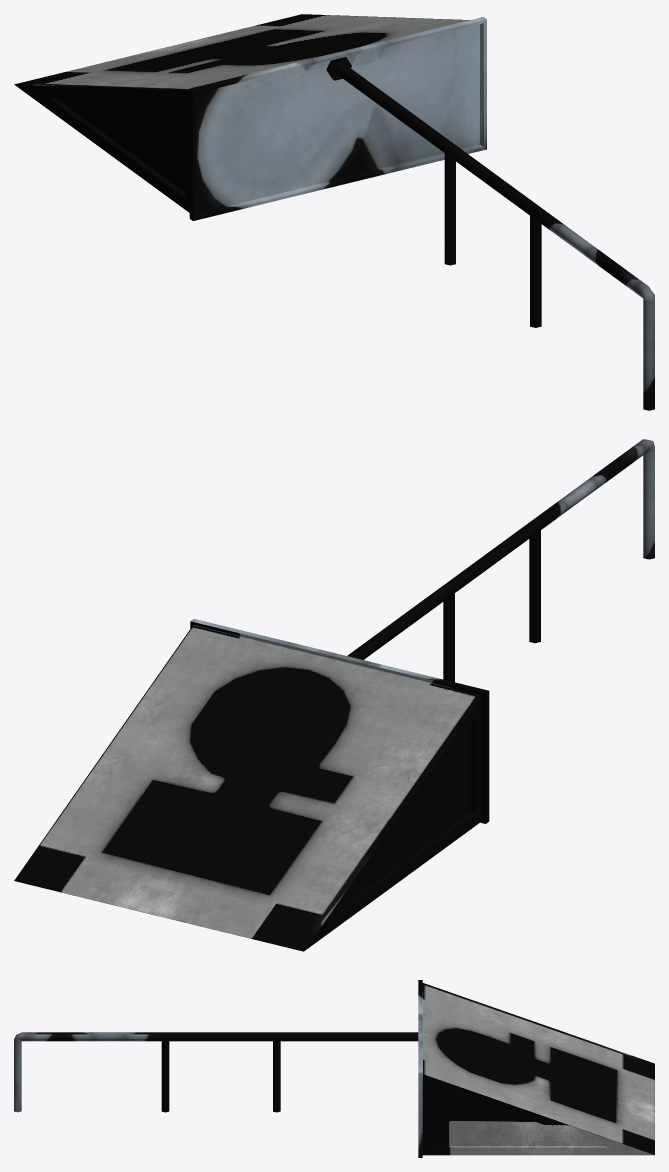
Rendered from Ramp02.fbx.
The picture shows the model from 3 angles, top to bottom: view 1: azimuth 30°, elevation 25°; view 2: azimuth 150°, elevation 25°; view 3: azimuth 270°, elevation 25°; orthographic projection. The views are drawn at different scales.
Parts seen in each view (by area): view 1: Ramp02; view 2: Ramp02; view 3: Ramp02.
Boxes of the visible parts, box(x1,y1,x2,y2) form: Ramp02: box(14, 14, 654, 410); Ramp02: box(14, 439, 654, 951); Ramp02: box(14, 980, 654, 1157).
Size of the model in its own units: 0.076 by 0.0321 by 0.2204.
